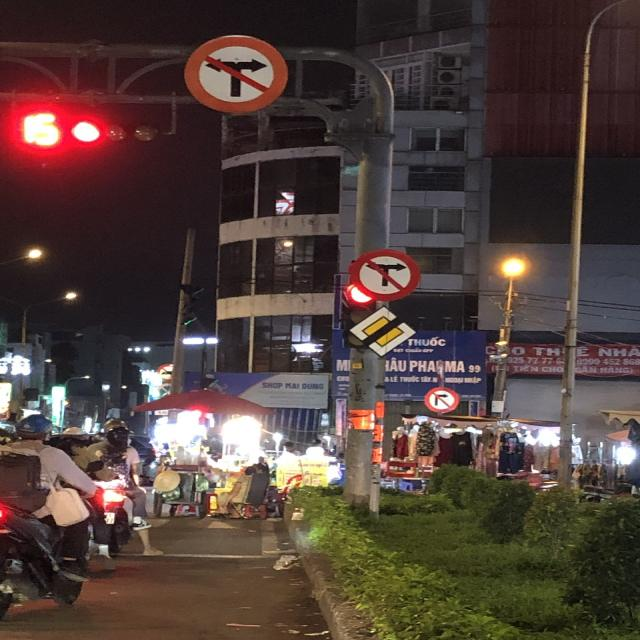Bien bao cam re phai: (422, 386, 462, 416)
